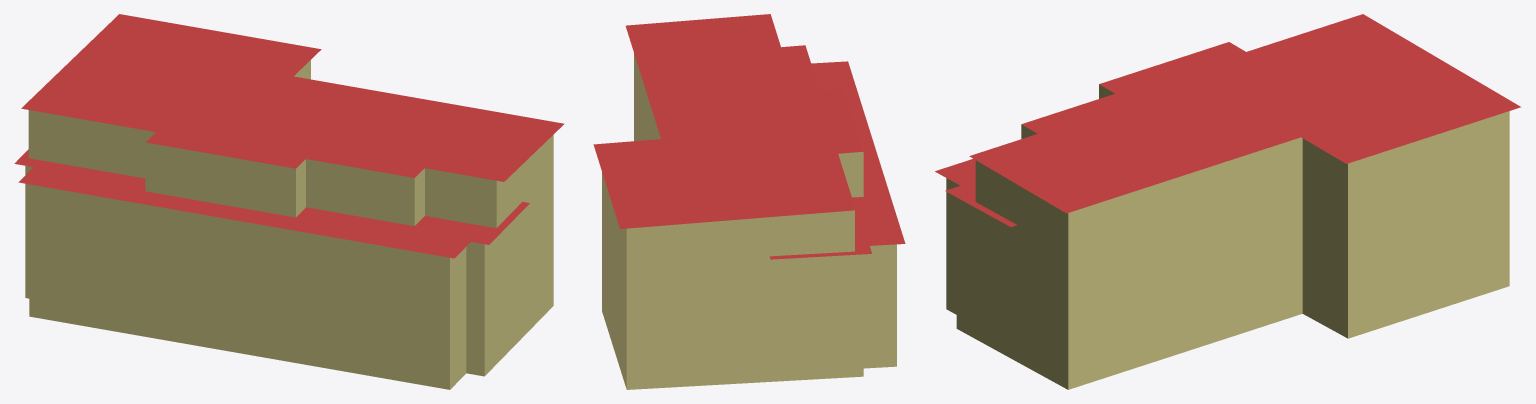
The picture shows the model from 3 angles, left to right: view 1: azimuth 30°, elevation 25°; view 2: azimuth 150°, elevation 25°; view 3: azimuth 270°, elevation 25°; orthographic projection. The views are drawn at different scales.
Size of the model in its own units: 29.26 by 34.73 by 12.17.
